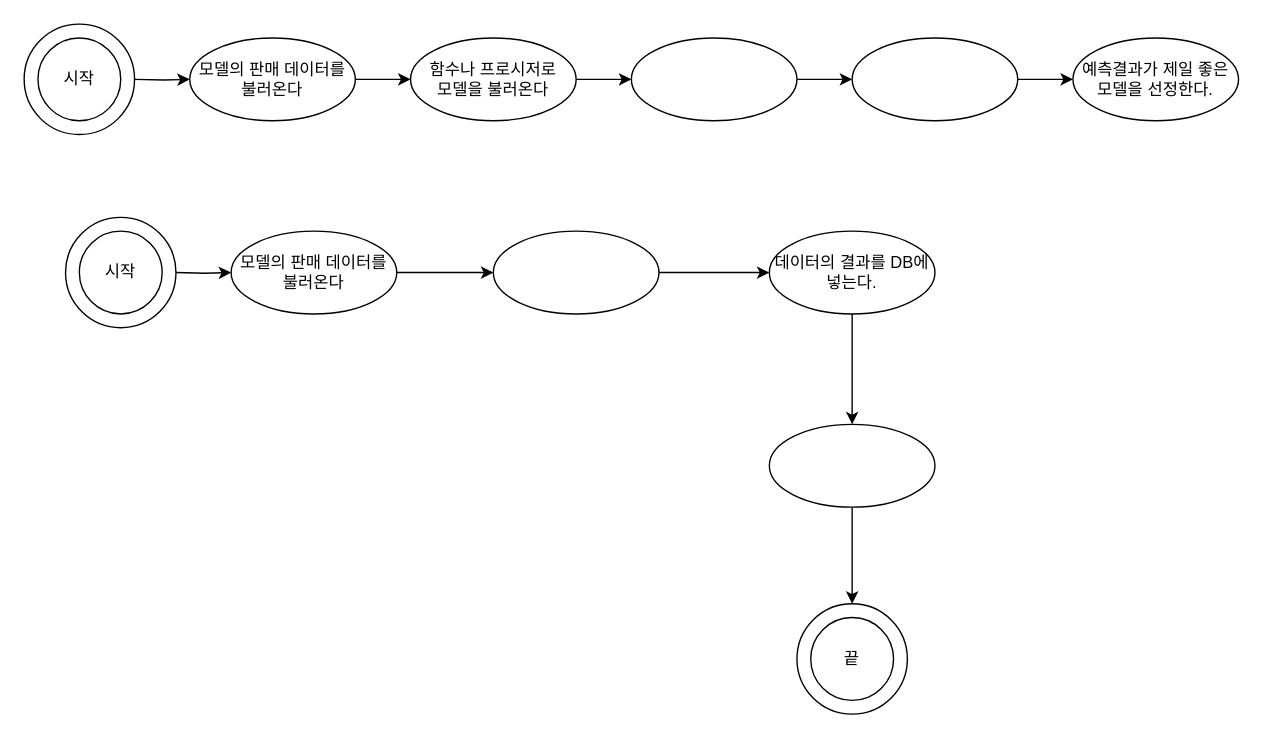
This 1263x738 diagram has some shape labels left out. Here are the shapes that lost their labels. From the top down, the centre of each, then its label:
At point 713,79: "데이터를 넣고 예측을 한다".
At point 934,79: "모델별 예측한 결과를 비교한다.".
At point 575,272: "데이터를 모델에 넣는다".
At point 851,465: "DB 데이터를 가져와서 뿌려준다.".
